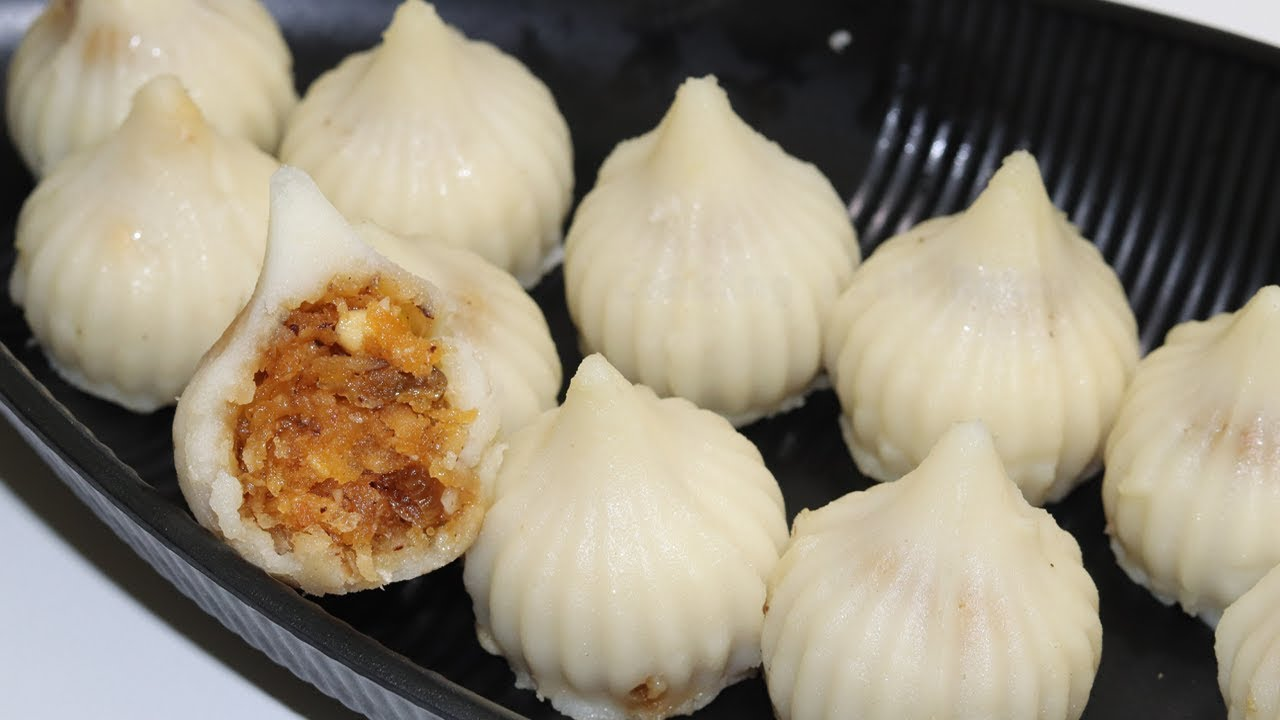modak: (820, 127, 1159, 494), (760, 403, 1104, 720), (497, 340, 777, 707), (589, 68, 848, 432), (259, 5, 590, 264), (23, 106, 276, 386)
